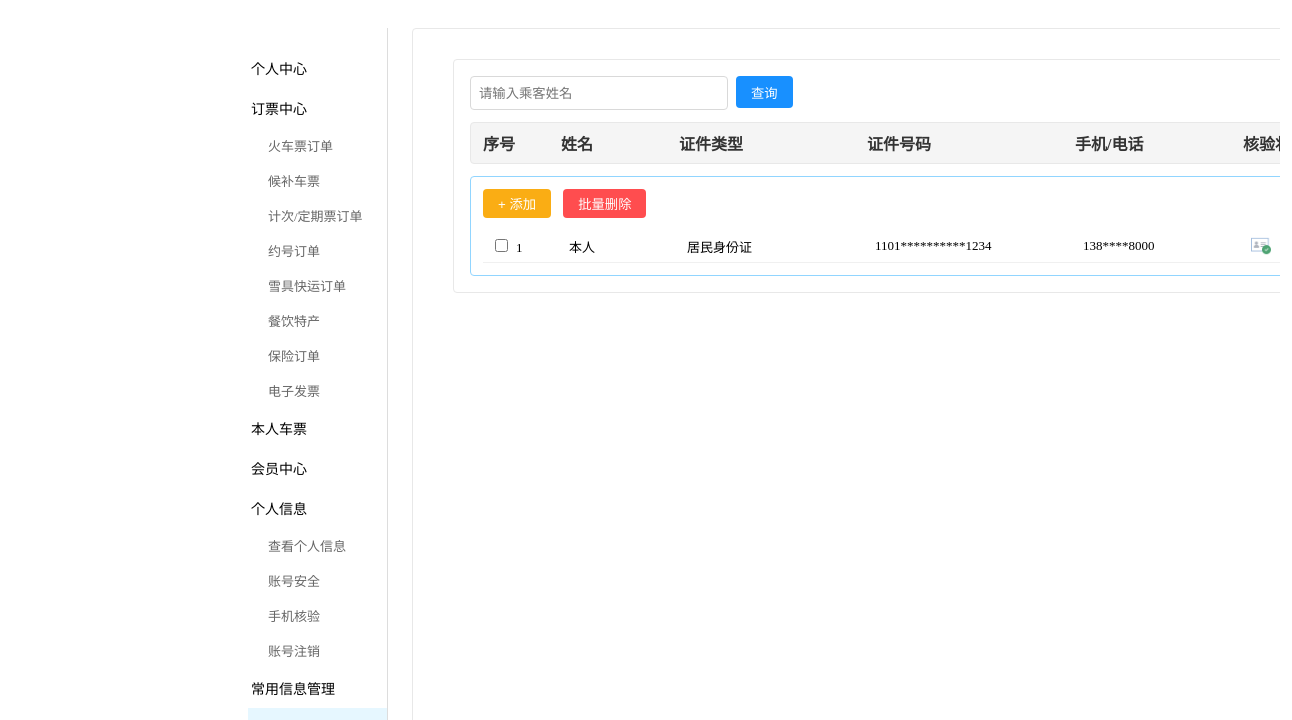
Scenario: Passenger Save Flow Integration Test › Complete passenger save flow: add new passenger and display in list
Expected: the text "本人" is shown, [569,240,595,254]
# Click Add button to open form
Click the button "+ 添加". click: coordinates (517, 204)
box: [483,189,551,218]
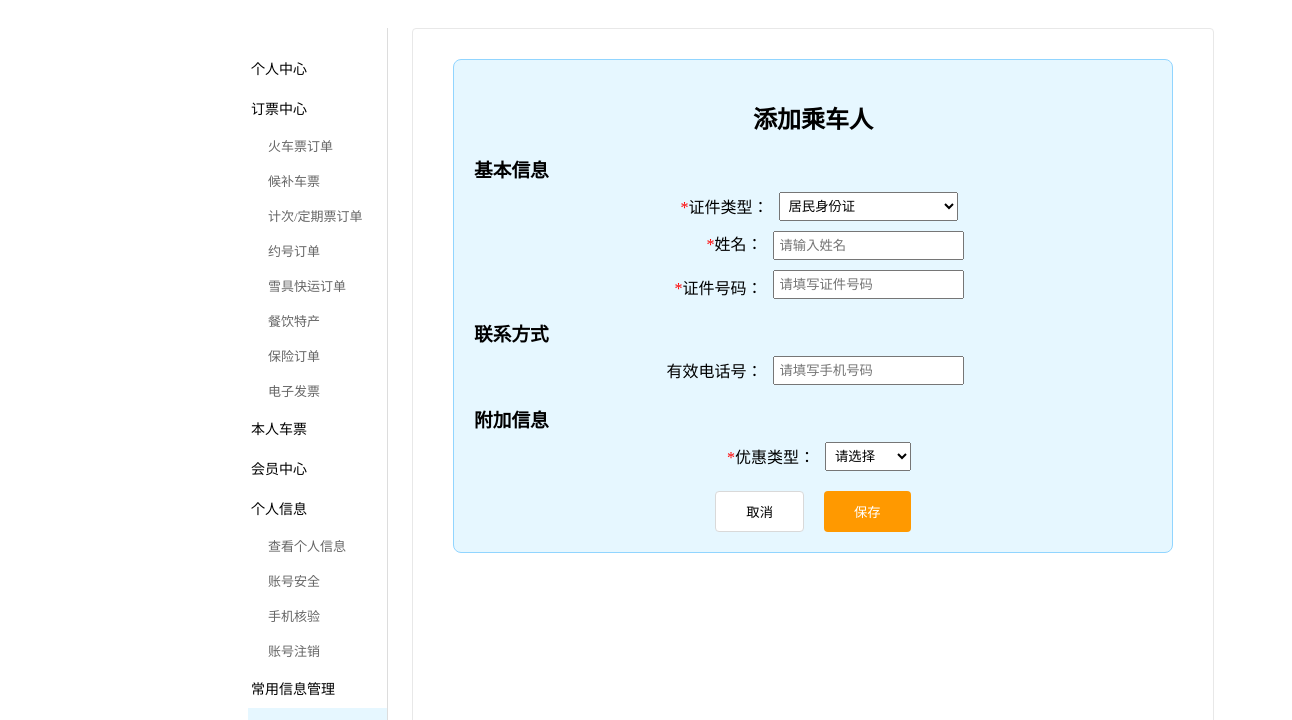
Now the heading "添加乘车人" is shown, box [753,107,873,133]
Type "张三" into the field with placeholder "请输入姓名". click: coordinates (868, 245)
box: [772,231,964,260]
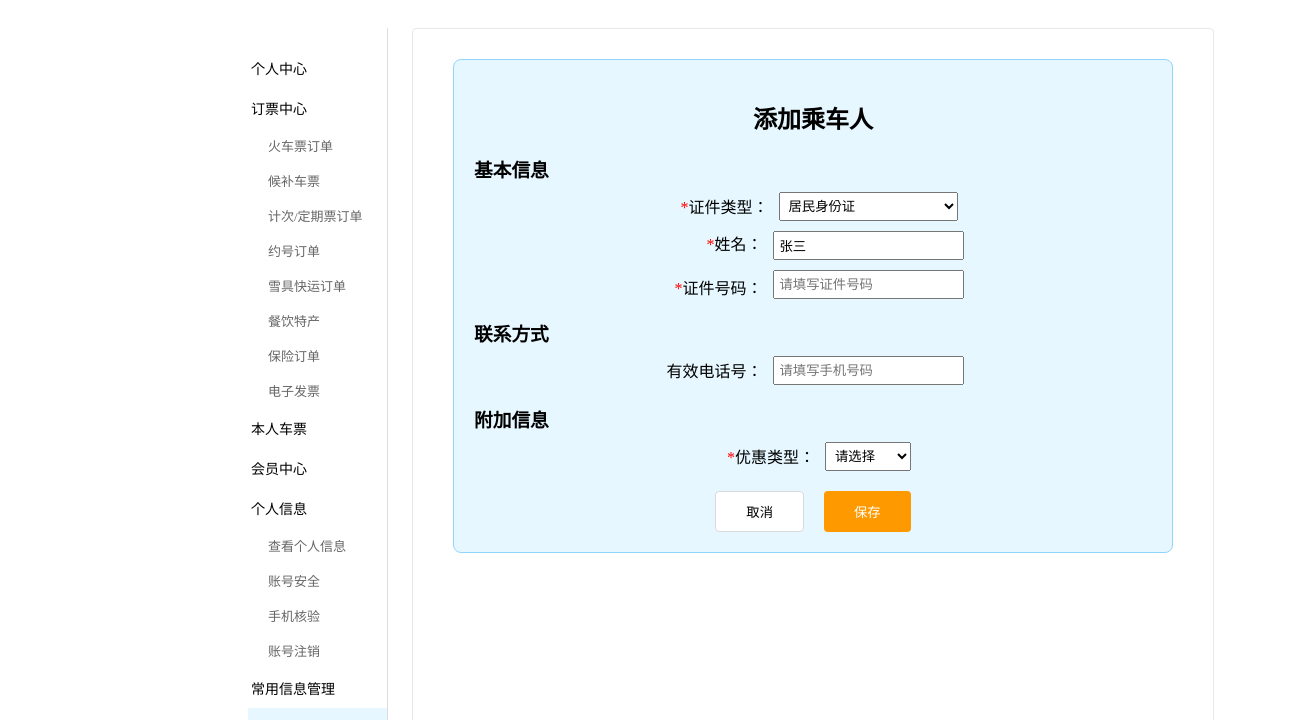
Type "320101199505055678" into the field with placeholder "请填写证件号码". click: coordinates (868, 284)
box: [772,270,964,299]
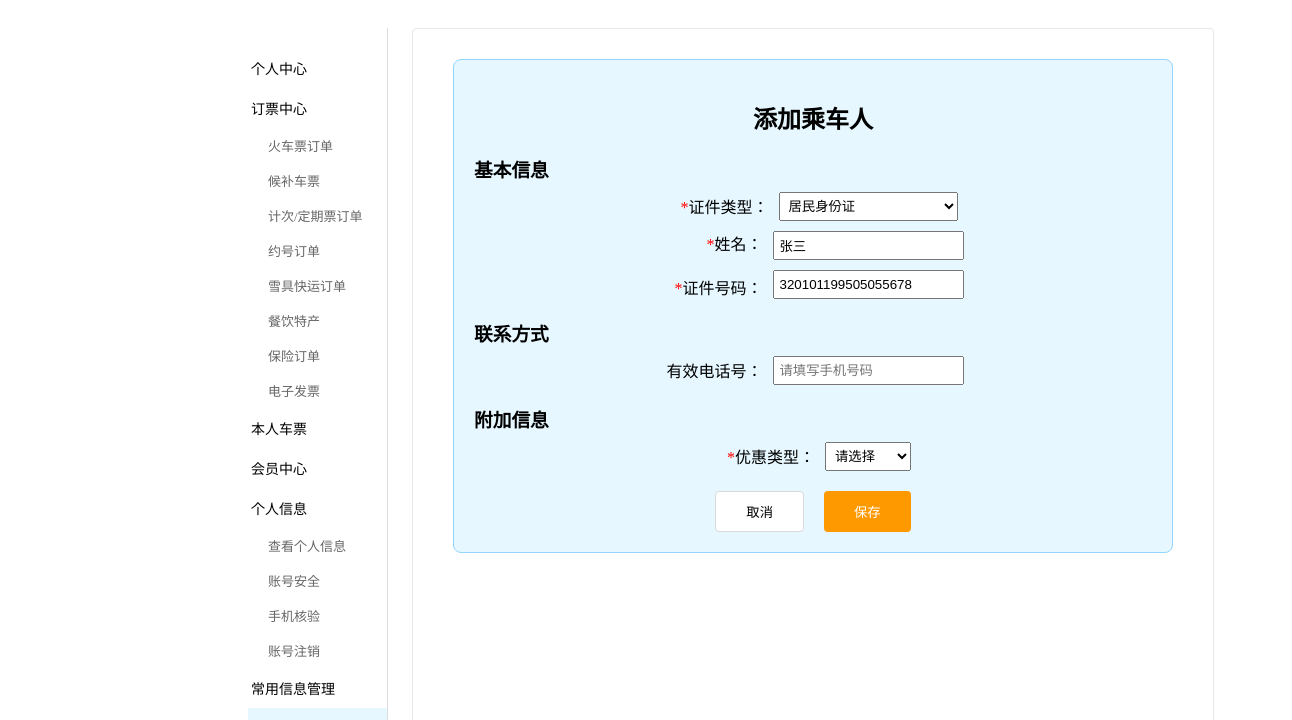
Type "13900139000" into the field with placeholder "请填写手机号码". click: coordinates (868, 370)
box: [772,356,964,385]
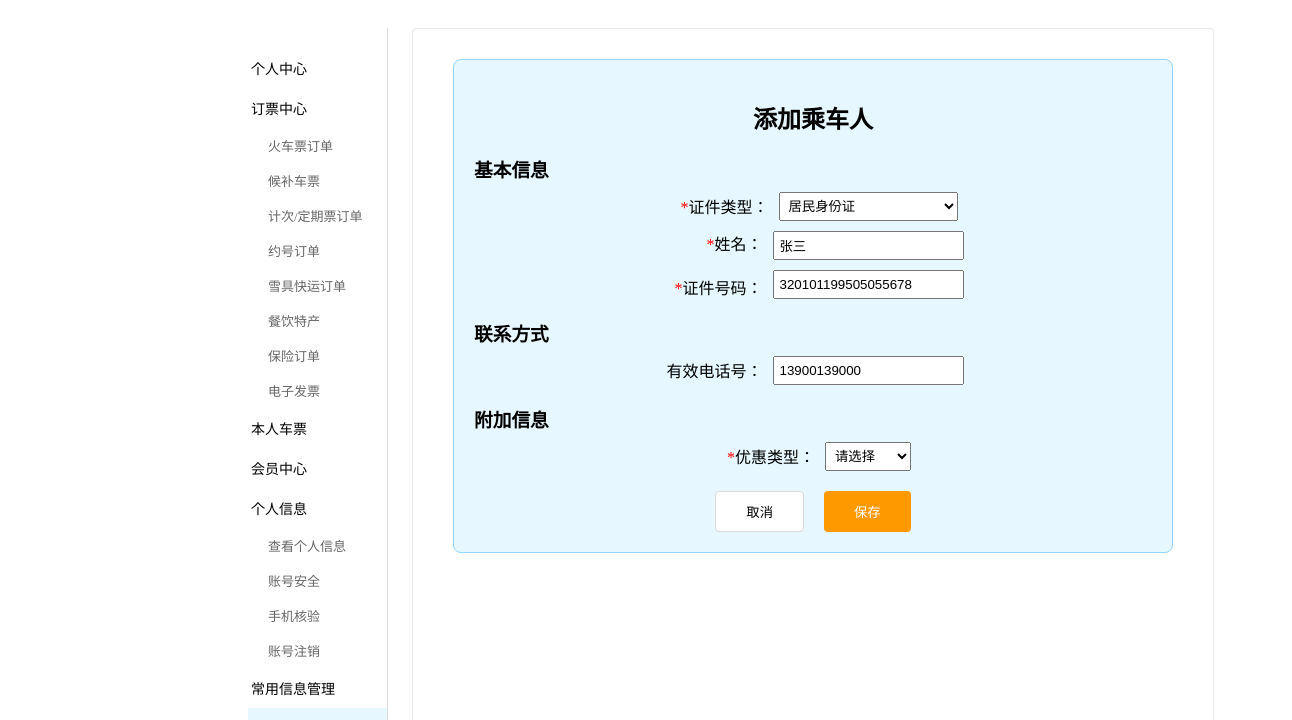
# Click Save button
Click the button "保存". click: coordinates (867, 511)
box: [824,491,911,532]
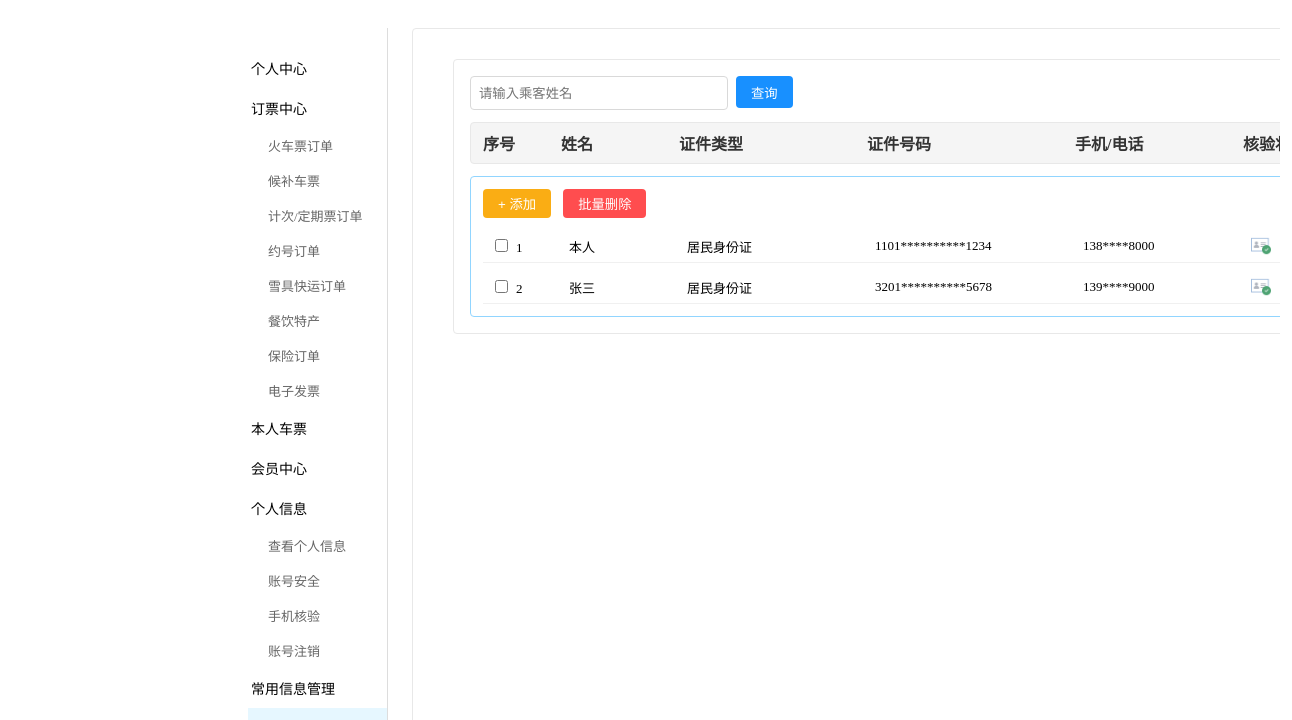
Now the button "+ 添加" is shown, box [483,189,551,218]
Now the text "张三" is shown, box [569,280,595,296]
Now the text "3201**********5678" is shown, box [875,279,992,294]
